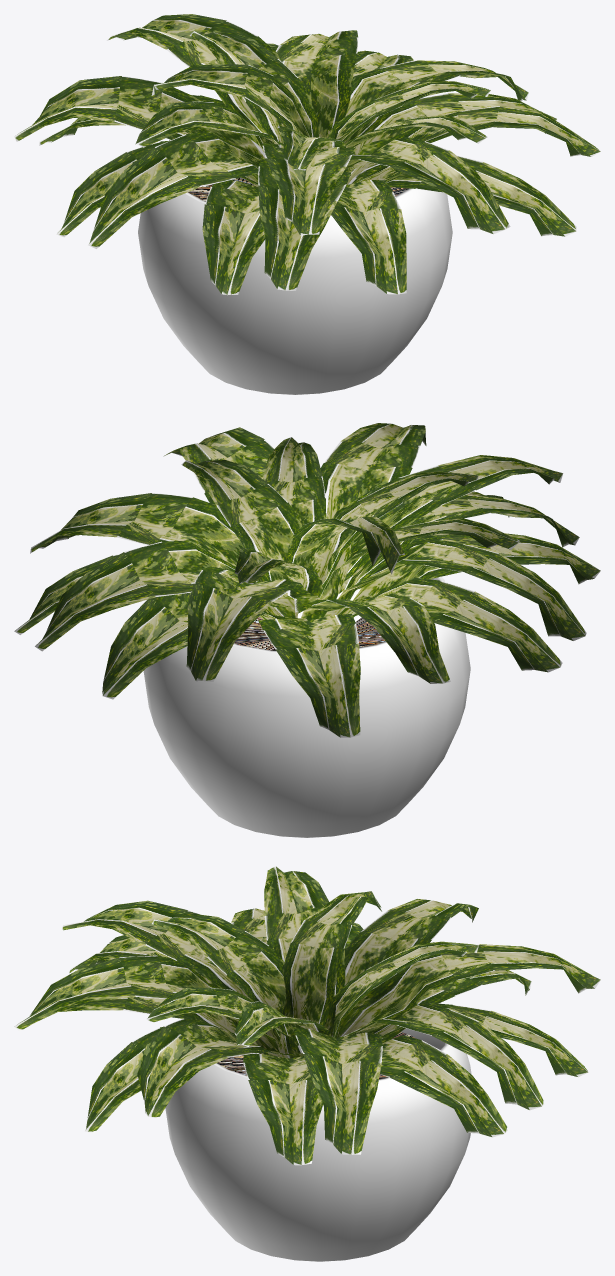
The model's file is Plant9.obj.
The picture shows the model from 3 angles, top to bottom: view 1: azimuth 30°, elevation 25°; view 2: azimuth 150°, elevation 25°; view 3: azimuth 270°, elevation 25°; orthographic projection. The views are drawn at different scales.
Parts seen in each view (by area): view 1: Bowl, Plane.5_1, Plane.12, Plane_1, Plane.7_1, Plane.3_1, Plane.14, Plane.7, Plane.6, Plane.15, Plane.5, Plane.2_1 (+11 smaller); view 2: Bowl, Plane.14, Plane.9, Plane.13, Plane.15, Plane.8, Plane.2, Plane.5_1, Plane.7_1, Plane.12, Plane.11, Plane.7 (+10 smaller); view 3: Bowl, Plane.13, Plane.15, Plane.5, Plane.7_1, Plane.4_1, Plane.10, Plane.1_1, Plane.3, Plane.14, Plane.12, Plane.7 (+10 smaller).
Part boxes in pixels (<box>): Bowl: <box>138,139,452,394</box>; Plane.5_1: <box>88,131,261,248</box>; Plane.12: <box>14,76,265,174</box>; Plane_1: <box>331,180,406,294</box>; Plane.7_1: <box>344,137,510,234</box>; Plane.3_1: <box>202,180,265,295</box>; Plane.14: <box>275,30,358,137</box>; Plane.7: <box>262,143,355,235</box>; Plane.6: <box>258,158,350,290</box>; Plane.15: <box>107,14,280,152</box>; Plane.5: <box>151,64,311,137</box>; Plane.2_1: <box>354,155,576,236</box>; Bowl: <box>143,576,470,837</box>; Plane.14: <box>35,540,295,651</box>; Plane.9: <box>258,614,360,737</box>; Plane.13: <box>30,493,275,615</box>; Plane.15: <box>186,566,319,681</box>; Plane.8: <box>346,577,562,672</box>; Plane.2: <box>181,459,301,581</box>; Plane.5_1: <box>336,539,586,640</box>; Plane.7_1: <box>320,423,426,592</box>; Plane.12: <box>297,595,450,683</box>; Plane.11: <box>102,592,307,699</box>; Plane.7: <box>332,455,563,581</box>; Bowl: <box>165,1028,471,1261</box>; Plane.13: <box>291,1027,382,1154</box>; Plane.15: <box>339,944,600,1036</box>; Plane.5: <box>282,891,381,1025</box>; Plane.7_1: <box>14,955,278,1043</box>; Plane.4_1: <box>137,1018,303,1118</box>; Plane.10: <box>380,1035,508,1137</box>; Plane.1_1: <box>243,1054,322,1165</box>; Plane.3: <box>152,914,286,1046</box>; Plane.14: <box>348,1002,544,1110</box>; Plane.12: <box>344,899,478,985</box>; Plane.7: <box>61,900,279,1052</box>.
Size of the model in its own units: 2035 by 1147 by 2119.
